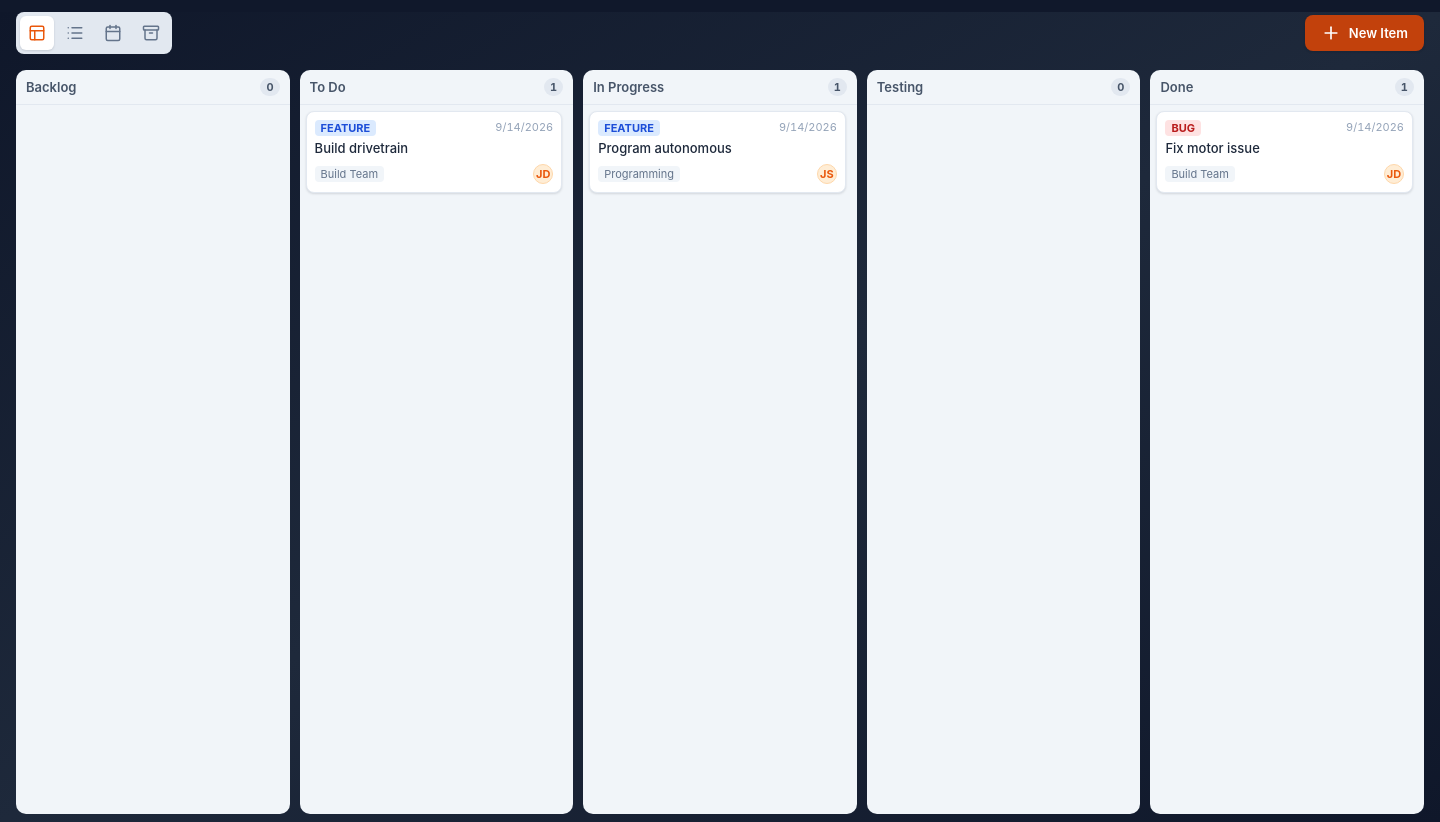
SprintPlanning › Archive functionality › can switch to the archived view
Click the button named "archived". click: {"x": 151, "y": 33}
box: [134,16,168,50]
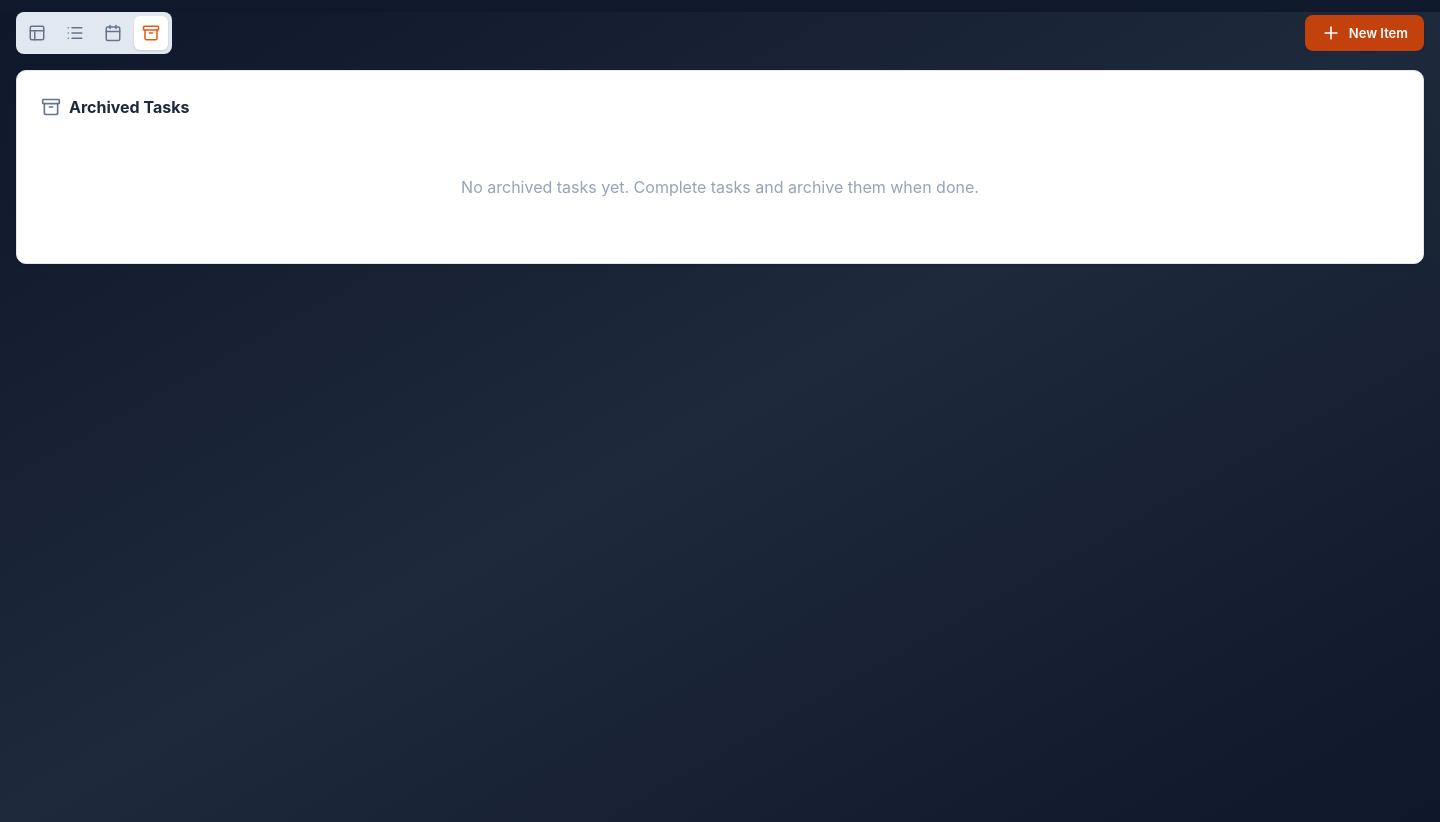
Expected: the text "No archived tasks" is shown, [461,177,979,197]
Expected: the button "Build drivetrain" is gone
